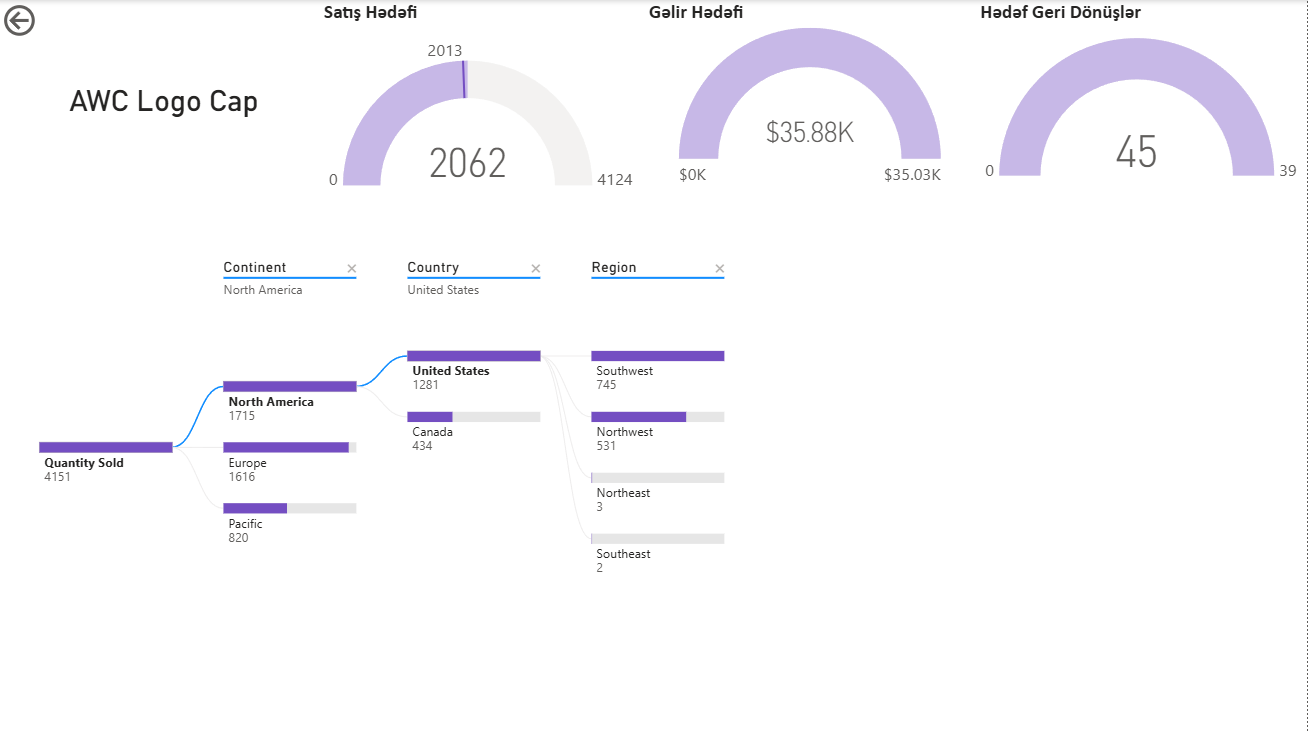

What the dashboard file says about the page in this screenshot:
{"tool":"powerbi","page":{"name":"Product Details","canvas":[1280,720],"ordinal":2},"visuals":[{"type":"card","fields":{"Values":["Min(Mehsullar.ProductName)"]},"box":[9.8,0,303.3,193.2],"z":0},{"type":"actionButton","box":[0,0,100,40],"z":1000},{"type":"gauge","title":"Satış Hədəfi","fields":{"Y":["Sales.Total Orders"],"TargetValue":["Sales.Order target"]},"box":[313.3,0,317.2,192.1],"z":2000},{"type":"gauge","title":"Gəlir Hədəfi","fields":{"MaxValue":["Geridonusler.Revenue Target"],"Y":["Geridonusler.Total Revenue"]},"box":[630.5,0,324.9,192.1],"z":3000},{"type":"gauge","title":"Hədəf Geri Dönüşlər","fields":{"Y":["Geridonusler.Total Returns"],"MaxValue":["Geridonusler.Prev Month Returns"]},"box":[955.4,0,324.9,192.1],"z":4000},{"type":"decompositionTreeVisual","fields":{"Analyze":["Sales.Quantity Sold"],"ExplainBy":["Regionlar.Continent","Regionlar.Country","Regionlar.Region"]},"box":[9.8,236,920.8,381.5],"z":5000}]}

Visuals, with their boxes in screenshot pixels (x1, y1, x2, y2), scaled from the page's 1280x720 canvas onto the 1308x732 screenshot:
card - Min(Mehsullar.ProductName): 10/0/320/196
actionButton: 0/0/102/41
"Satış Hədəfi" gauge: 320/0/644/195
"Gəlir Hədəfi" gauge: 644/0/976/195
"Hədəf Geri Dönüşlər" gauge: 976/0/1307/195
decompositionTreeVisual - Sales.Quantity Sold x Regionlar.Continent: 10/240/951/628
